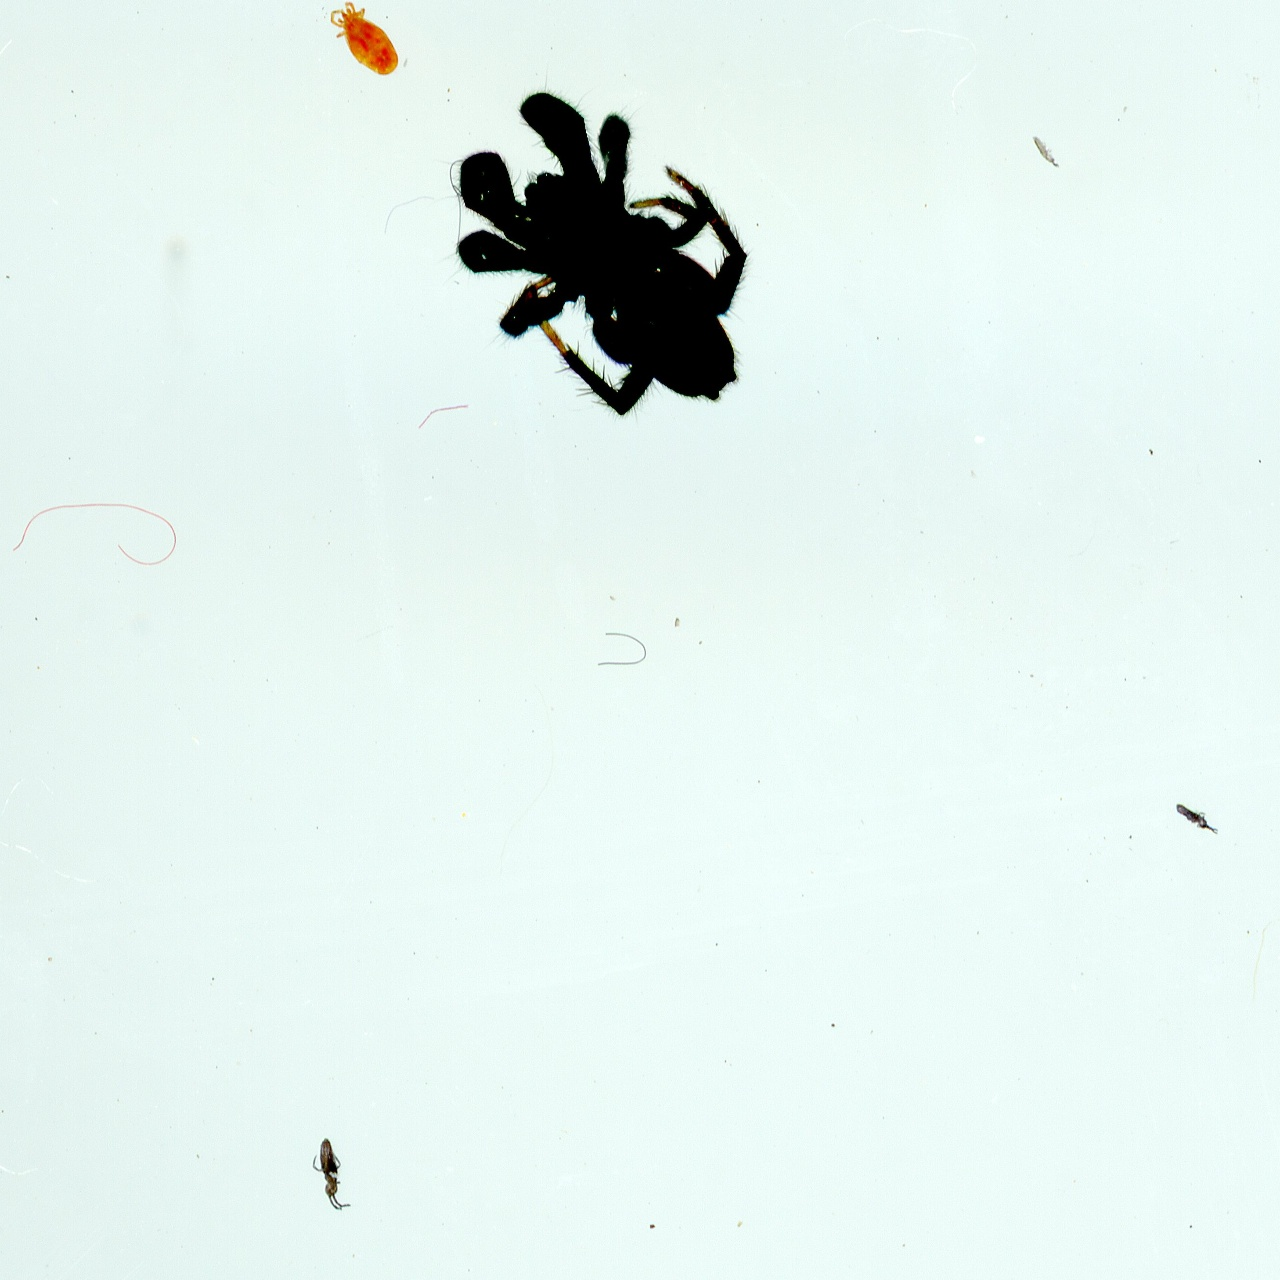arthropod: (366, 14, 840, 506), (307, 0, 420, 99), (1160, 790, 1231, 846), (308, 1130, 353, 1216), (1023, 125, 1069, 178)
